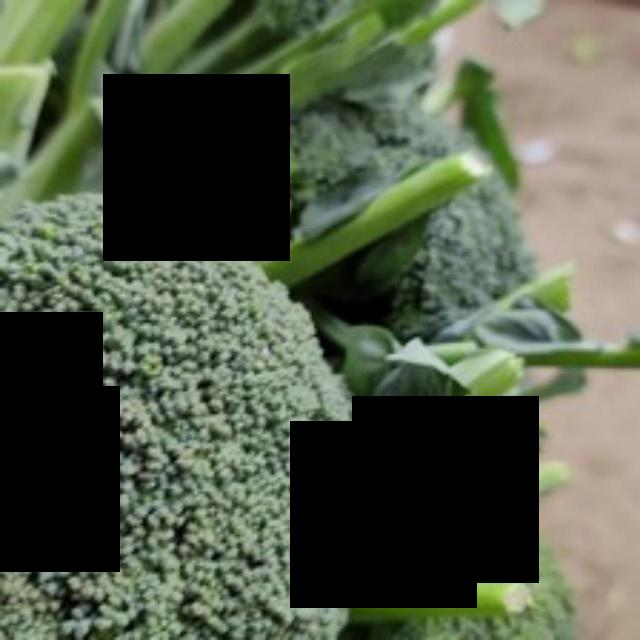broccoli: (3, 182, 374, 640)
